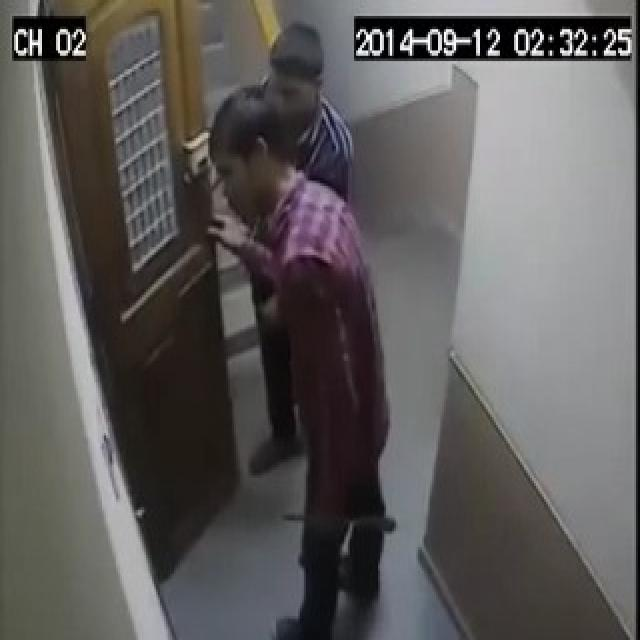thief: (193, 20, 403, 637)
